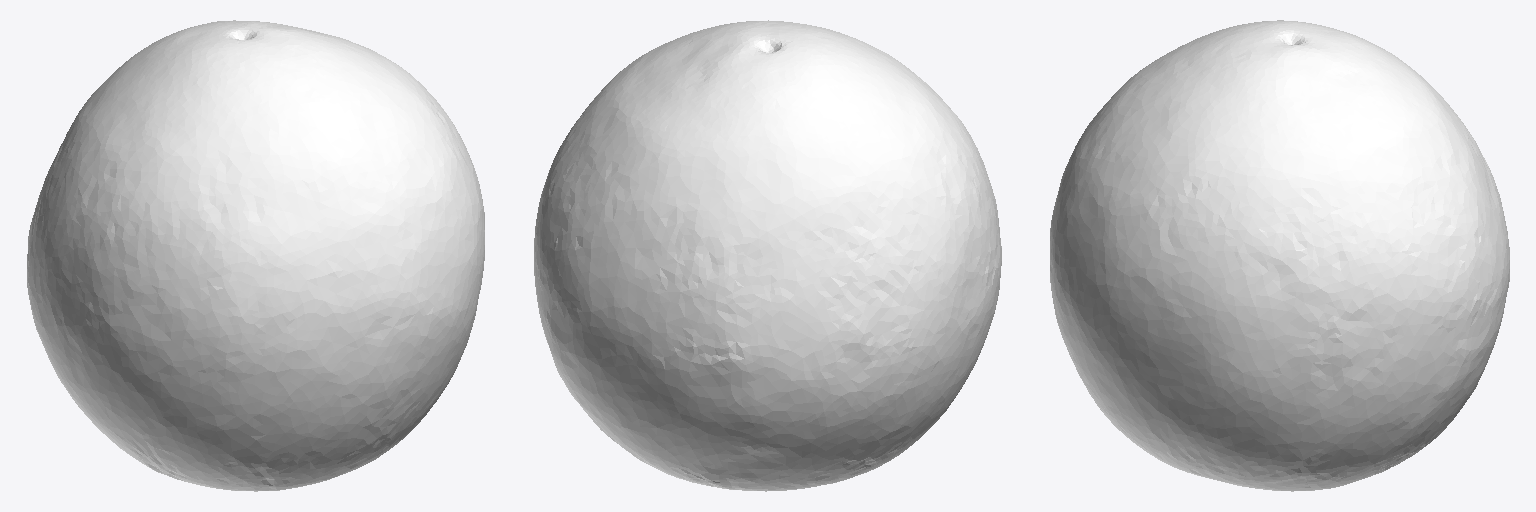
robot.urdf — orange:
<robot name="orange">
    <link name="base_link">
        <visual>
            <origin xyz="-0.0 0.0 -0.0" rpy="0.0 0.0 0.0" />
            <geometry>
                <mesh filename="orange/textured.obj" scale="1 1 1" />
            </geometry>
            <material name="texture">
                <color rgba="1.0 1.0 1.0 1.0" />
            </material>
        </visual>
        <collision>
            <origin xyz="-0.0 0.0 -0.0" rpy="0.0 0.0 0.0" />
            <geometry>
                <mesh filename="orange/textured_coacd_0.stl" scale="1 1 1" />
            </geometry>
        </collision>
        <collision>
            <origin xyz="-0.0 0.0 -0.0" rpy="0.0 0.0 0.0" />
            <geometry>
                <mesh filename="orange/textured_coacd_1.stl" scale="1 1 1" />
            </geometry>
        </collision>
        <collision>
            <origin xyz="-0.0 0.0 -0.0" rpy="0.0 0.0 0.0" />
            <geometry>
                <mesh filename="orange/textured_coacd_2.stl" scale="1 1 1" />
            </geometry>
        </collision>
        <inertial>
            <mass value="0.047" />
            <inertia ixx="1e-3" ixy="0.0" ixz="0.0" iyy="1e-3" iyz="0.0" izz="1e-3" />
        </inertial>
    </link>
</robot>

--- What the picture shows (computed from the rendered views, not written in the file) ---
3 views of the same robot in one strip: view 1: azimuth 30°, elevation 25°; view 2: azimuth 150°, elevation 25°; view 3: azimuth 270°, elevation 25° (orthographic).
Model orange with 1 links and 0 joints (none), rooted at base_link, posed all joints at 0.
Visible links, largest first — view 1: base_link; view 2: base_link; view 3: base_link.
Link boxes in pixels (x1=…): base_link: x1=27, y1=20, x2=484, y2=491; base_link: x1=534, y1=20, x2=1001, y2=491; base_link: x1=1050, y1=20, x2=1509, y2=491.
Size in the robot's own frame: 0.0717 by 0.0724 by 0.0714 metres.
Meshes: 1 distinct files referenced, 1 mesh visuals loaded (1 OBJ).